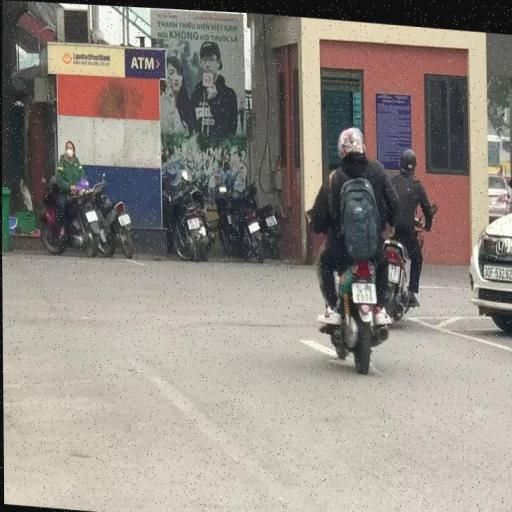bike: (300, 119, 402, 372), (384, 141, 438, 323)
numberplate: (350, 276, 378, 301), (386, 258, 401, 280), (186, 213, 200, 229), (117, 211, 131, 226), (264, 211, 278, 226), (247, 217, 260, 233), (85, 208, 98, 223)
with helmet: (336, 123, 368, 156), (398, 144, 419, 165)
